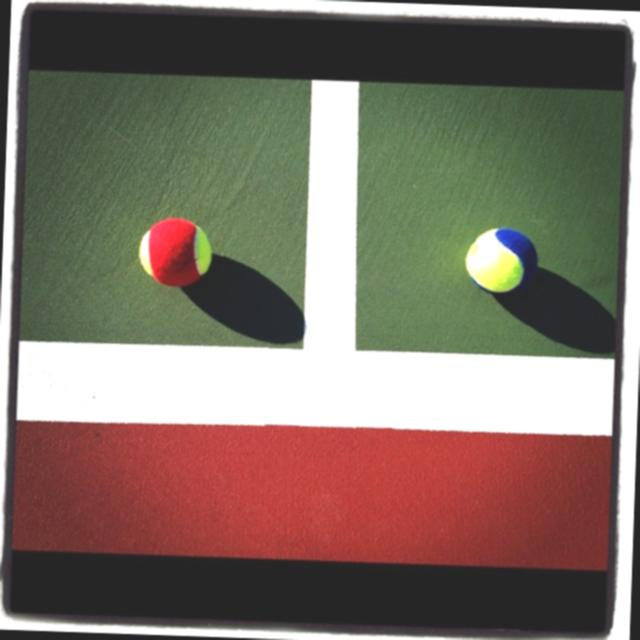Tennis ball: (138, 217, 215, 284), (462, 230, 536, 294)
